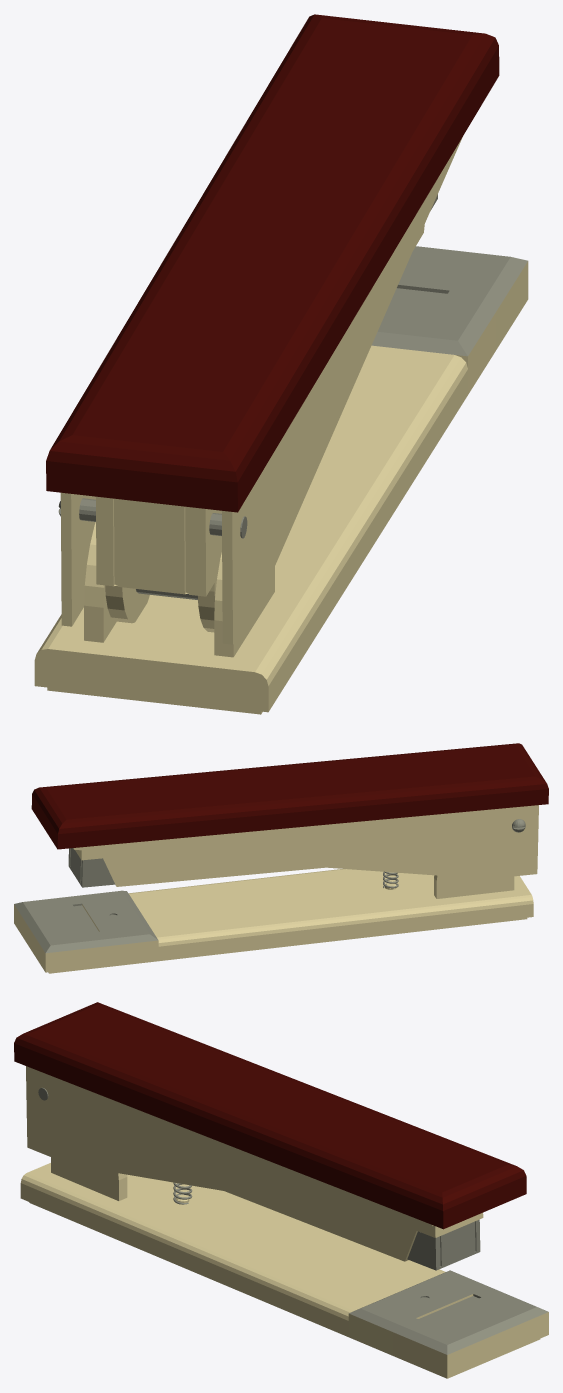
The model's file is Agrafeuse.fbx.
3 views of the same model, one above another, from view 1: azimuth 30°, elevation 25°; view 2: azimuth 150°, elevation 25°; view 3: azimuth 270°, elevation 25° (orthographic). The views are drawn at different scales.
Visible parts, largest first — view 1: Agrafeuse; view 2: Agrafeuse; view 3: Agrafeuse.
Boxes of the visible parts, <box> form: Agrafeuse: <box>34,14,528,714</box>; Agrafeuse: <box>14,743,548,973</box>; Agrafeuse: <box>14,1002,548,1378</box>.
Size of the model in its own units: 29.61 by 10.57 by 29.69.
